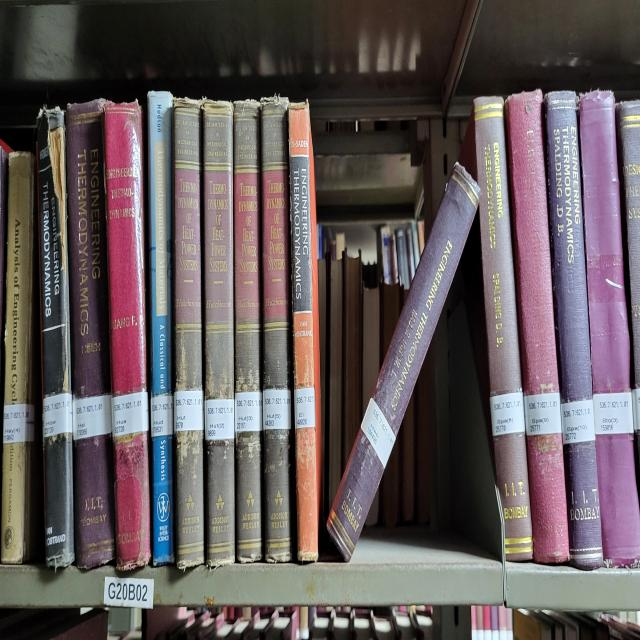Book: (328, 162, 480, 560), (459, 97, 532, 560), (505, 89, 569, 563), (580, 92, 640, 565), (544, 92, 602, 568), (66, 100, 115, 568), (104, 103, 150, 571), (0, 152, 42, 563), (38, 108, 74, 568), (202, 100, 235, 565), (289, 103, 321, 563), (261, 97, 292, 563), (174, 100, 204, 571), (234, 100, 262, 563), (148, 92, 174, 565), (616, 100, 640, 468)
Label: (361, 398, 396, 468), (592, 392, 634, 436), (72, 395, 112, 441), (111, 392, 149, 438), (524, 392, 561, 436), (490, 390, 525, 436), (561, 400, 595, 444), (42, 392, 72, 438), (174, 390, 204, 433), (205, 398, 235, 441), (4, 403, 34, 444), (262, 390, 291, 430), (235, 392, 262, 433), (150, 395, 174, 438), (295, 387, 315, 430), (631, 387, 640, 433)
